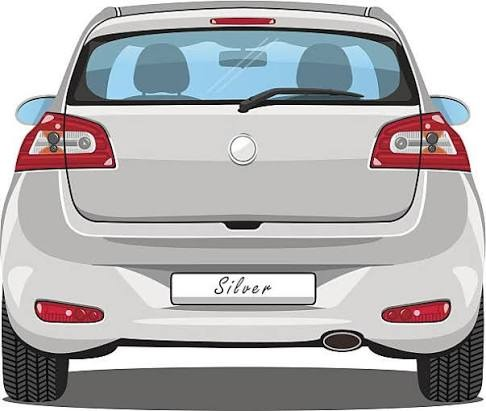car: (11, 1, 486, 407)
